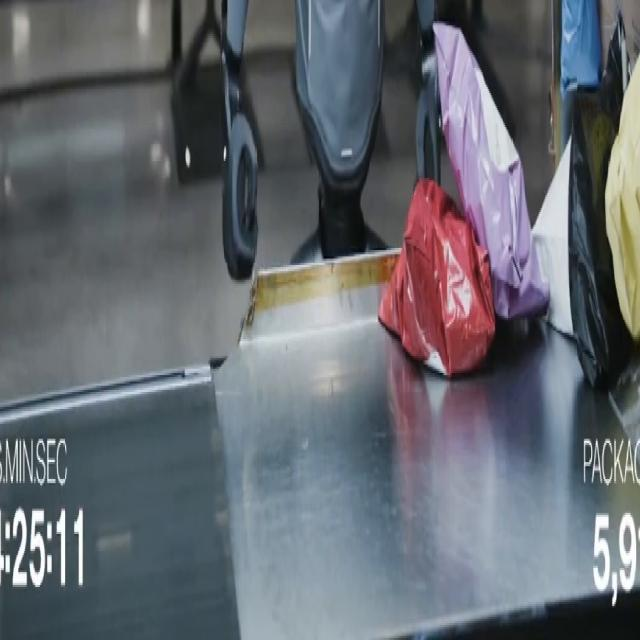package: (434, 24, 548, 319), (379, 179, 495, 377), (569, 90, 632, 387), (605, 70, 639, 343), (533, 138, 572, 336), (561, 0, 602, 99), (598, 0, 639, 67)
